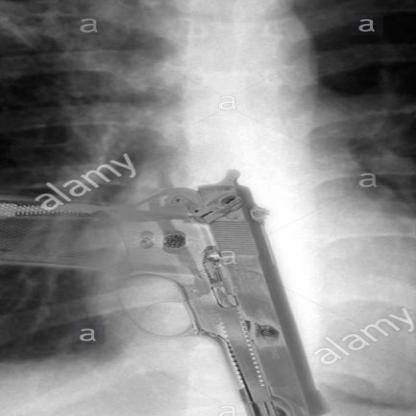gun: (0, 163, 336, 415)
